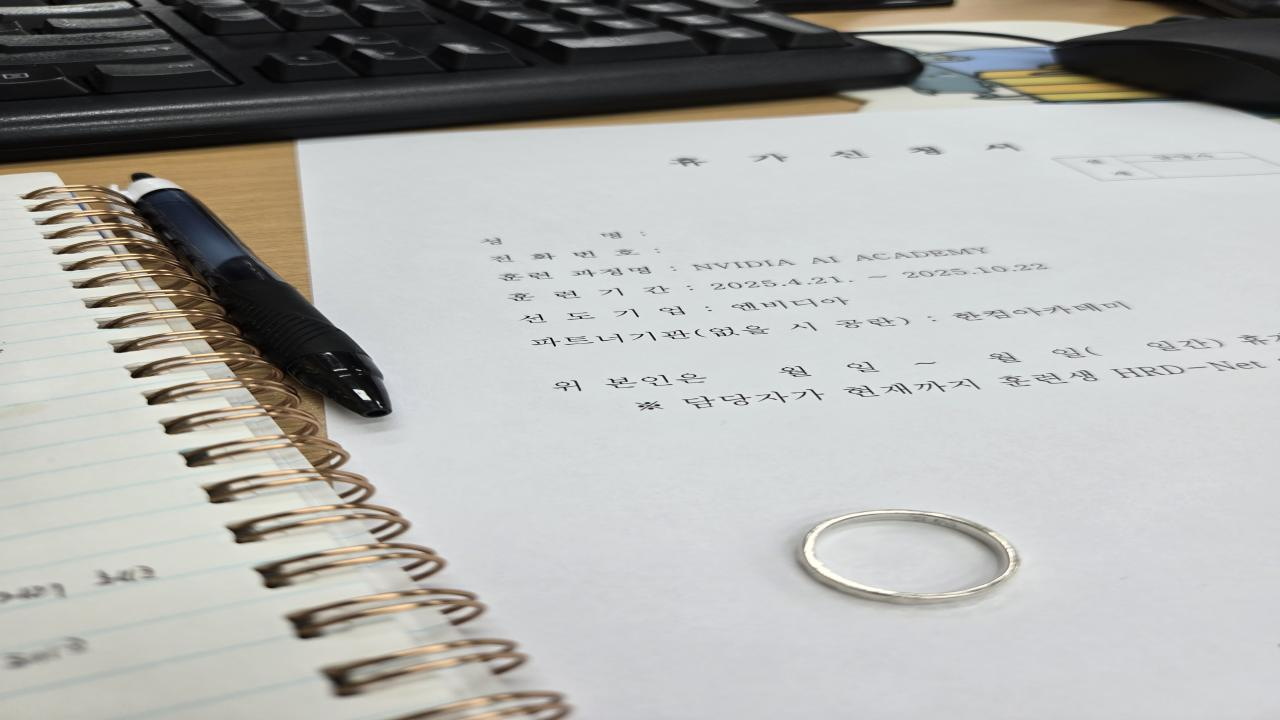ring: (798, 509, 1027, 607)
